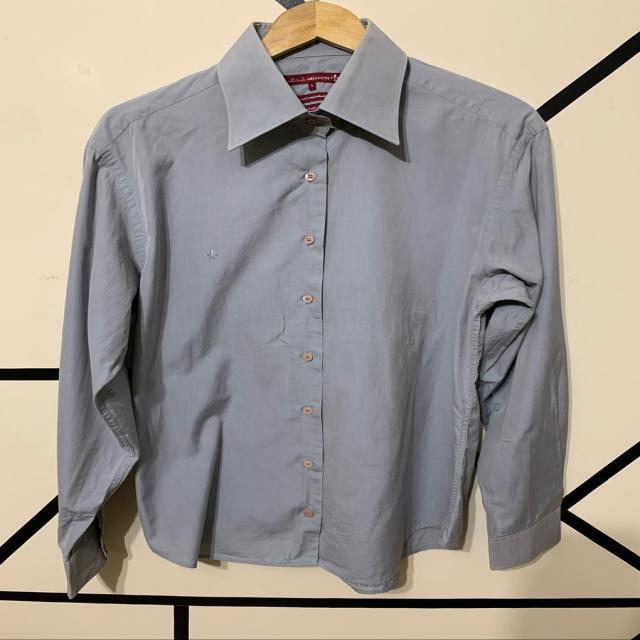long sleeve shirt: (46, 9, 578, 601)
